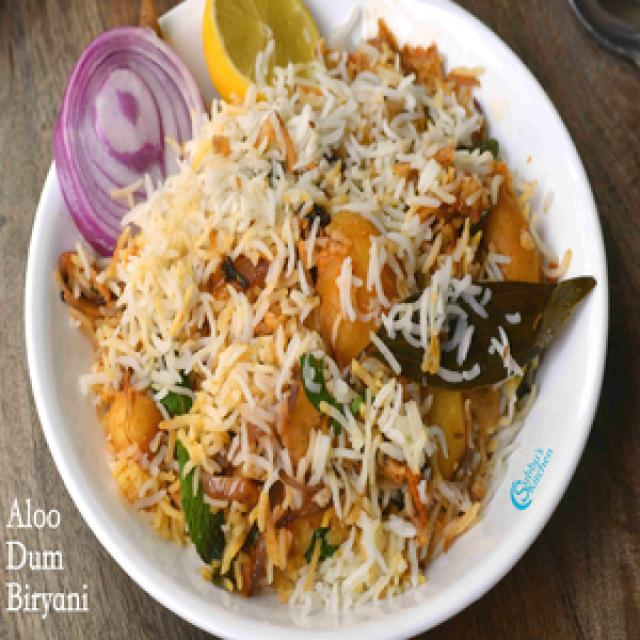chicken biriyani: (45, 18, 580, 640)
